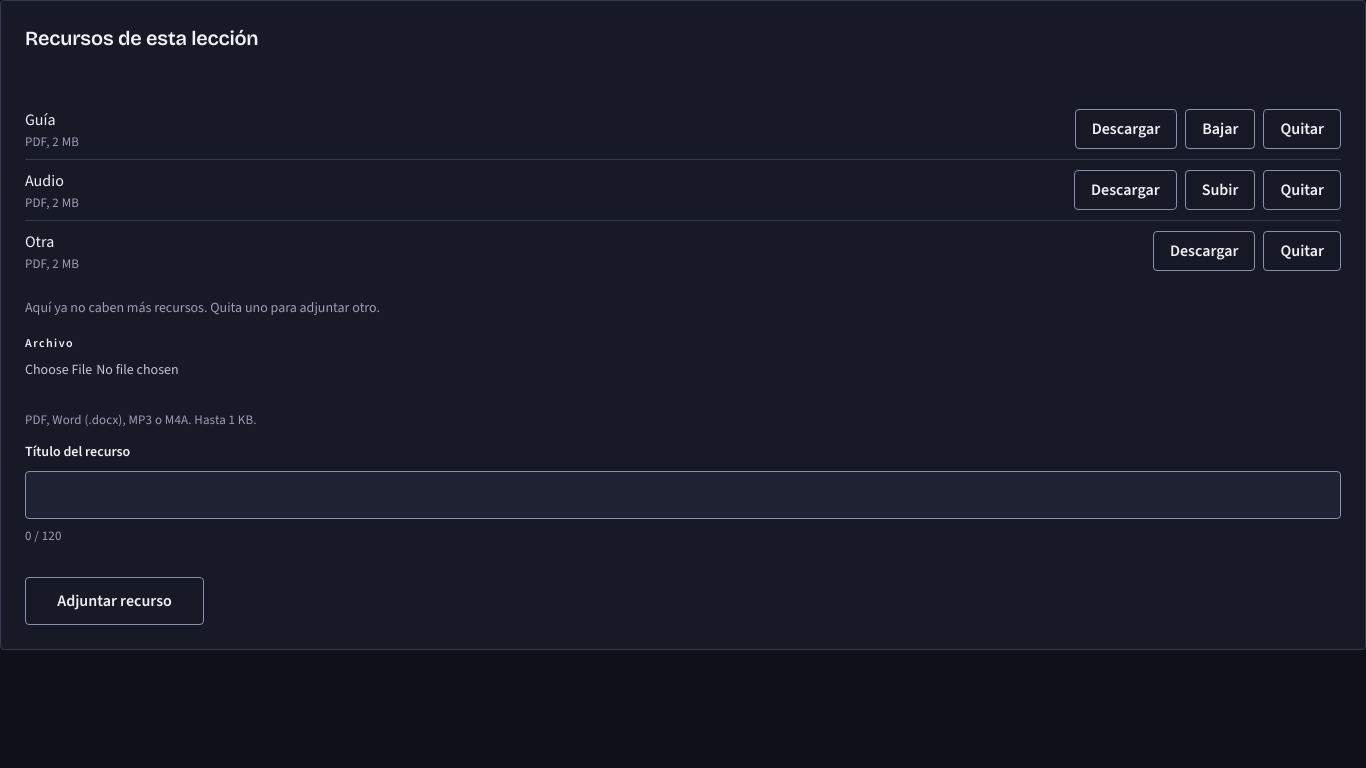
Test: adjuntar › con el lugar lleno, adjuntar no empieza nada
Step 1. Click the button "Adjuntar recurso" → click(114, 601), box [25,577,204,625]
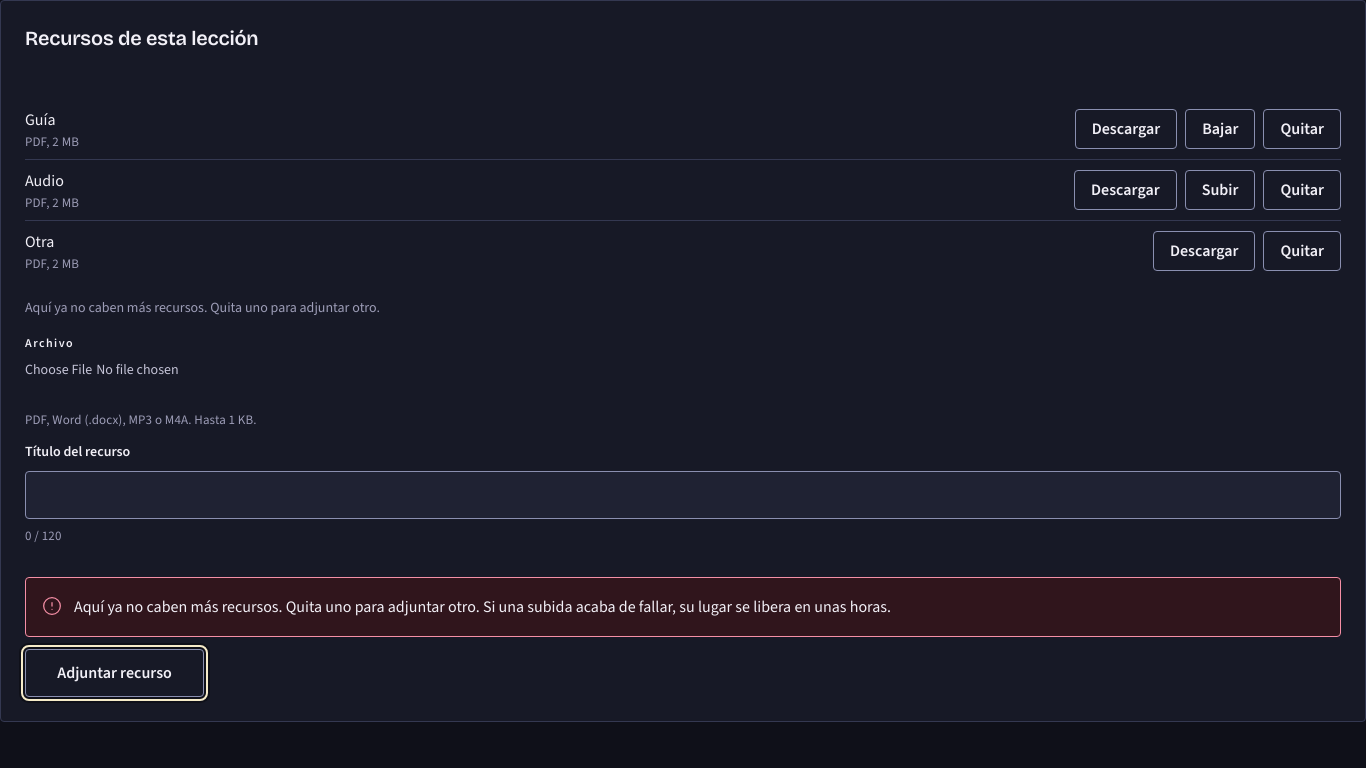
expect the message shows "ya no caben más recursos": met, box [74,596,891,617]
